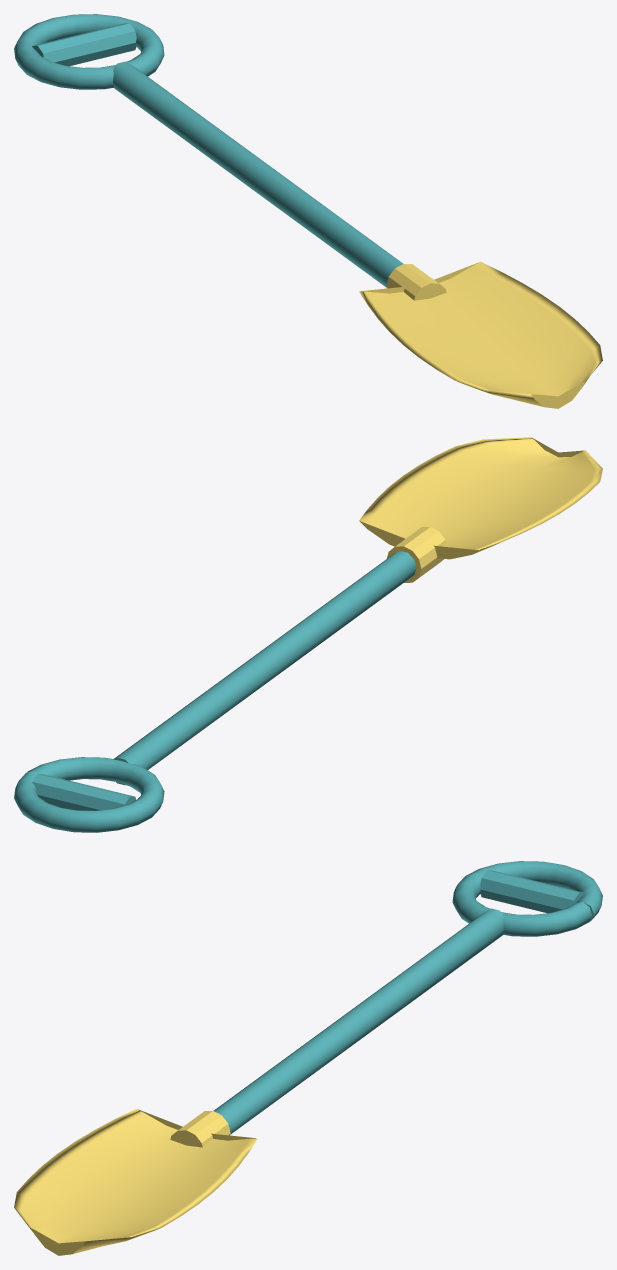
Rendered from beach-surf-and-paddle-kit-sand-spade-5b7ac6d0__39440.glb.
3 views of the same model, one above another, from view 1: azimuth 30°, elevation 25°; view 2: azimuth 150°, elevation 25°; view 3: azimuth 330°, elevation 25° (orthographic).
Parts seen in each view (by area): view 1: sand-spade-sun, sand-spade-teal; view 2: sand-spade-sun, sand-spade-teal; view 3: sand-spade-sun, sand-spade-teal.
Boxes of the visible parts, x1,y1,x2,y2 form: sand-spade-sun: (359, 261, 602, 408); sand-spade-teal: (14, 14, 403, 287); sand-spade-sun: (359, 437, 602, 582); sand-spade-teal: (14, 551, 416, 832); sand-spade-sun: (14, 1108, 257, 1255); sand-spade-teal: (213, 861, 602, 1134).
Bounding box in the file's own units: 0.1695 × 0.038 × 0.951.
